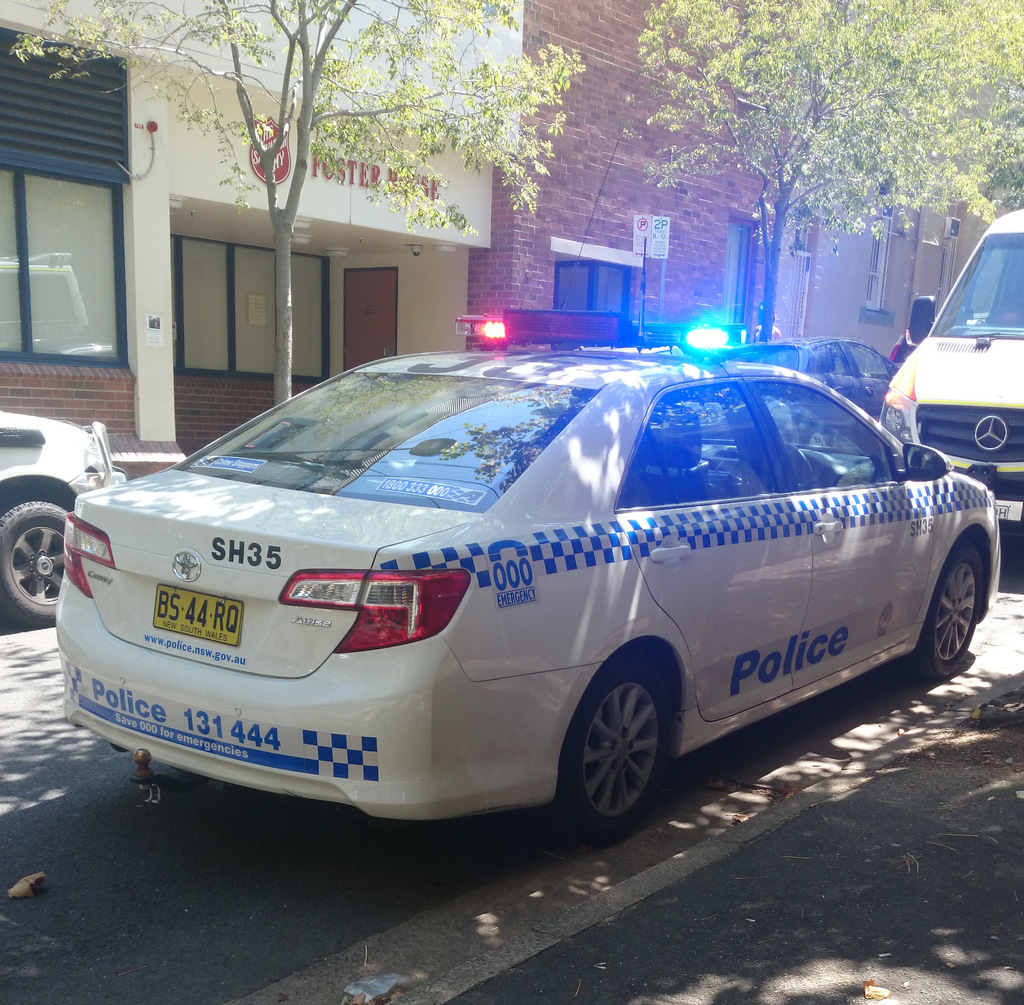Car: (46, 306, 1002, 830), (0, 397, 123, 629), (707, 329, 911, 414)
